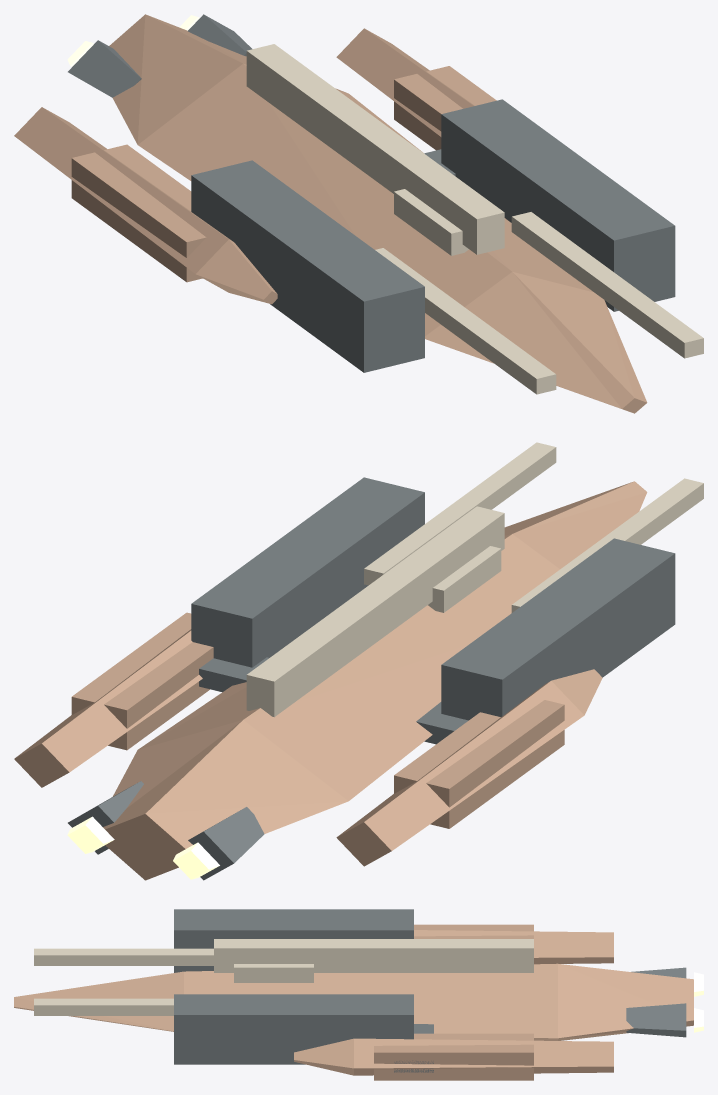
3 renders of one model, top to bottom at view 1: azimuth 30°, elevation 25°; view 2: azimuth 150°, elevation 25°; view 3: azimuth 270°, elevation 25°, orthographic. The views are drawn at different scales.
Size of the model in its own units: 3 by 1.03 by 6.62.
